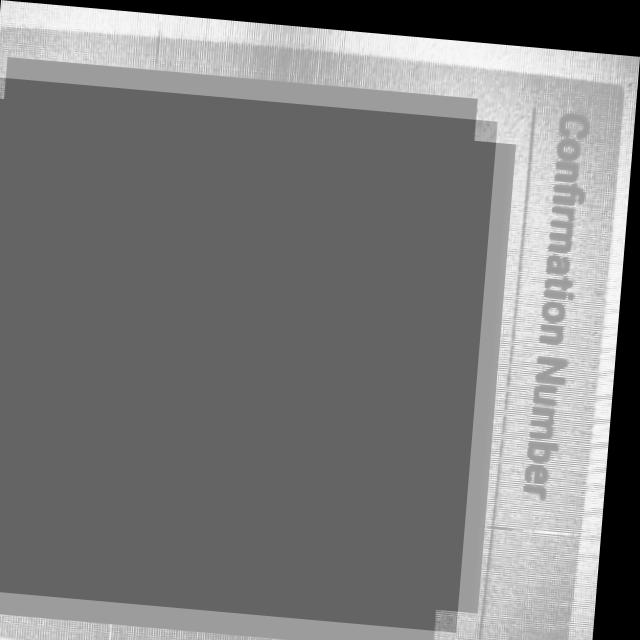qr_code: (0, 77, 498, 623)
